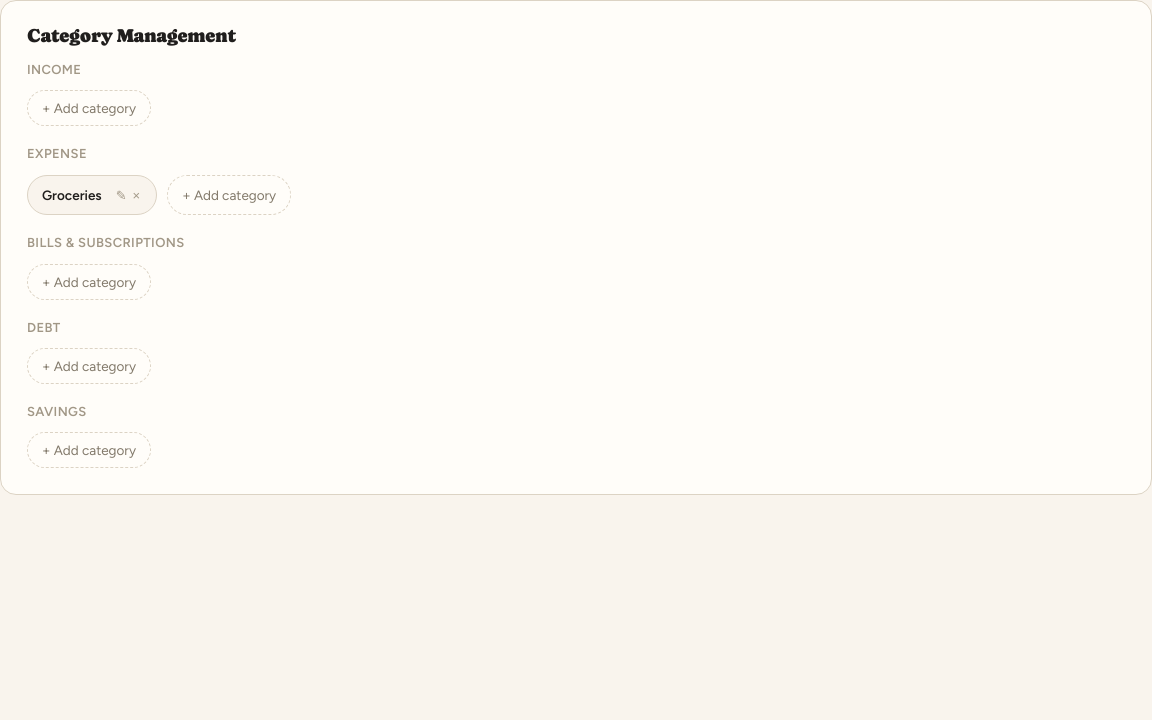
Test: CategoryManagement › only deletes a Category after the inline confirmation step
The image size is (1152, 720).
Click the button named "Delete Groceries" at (136, 195), box x1=131 y1=186 x2=142 y2=204
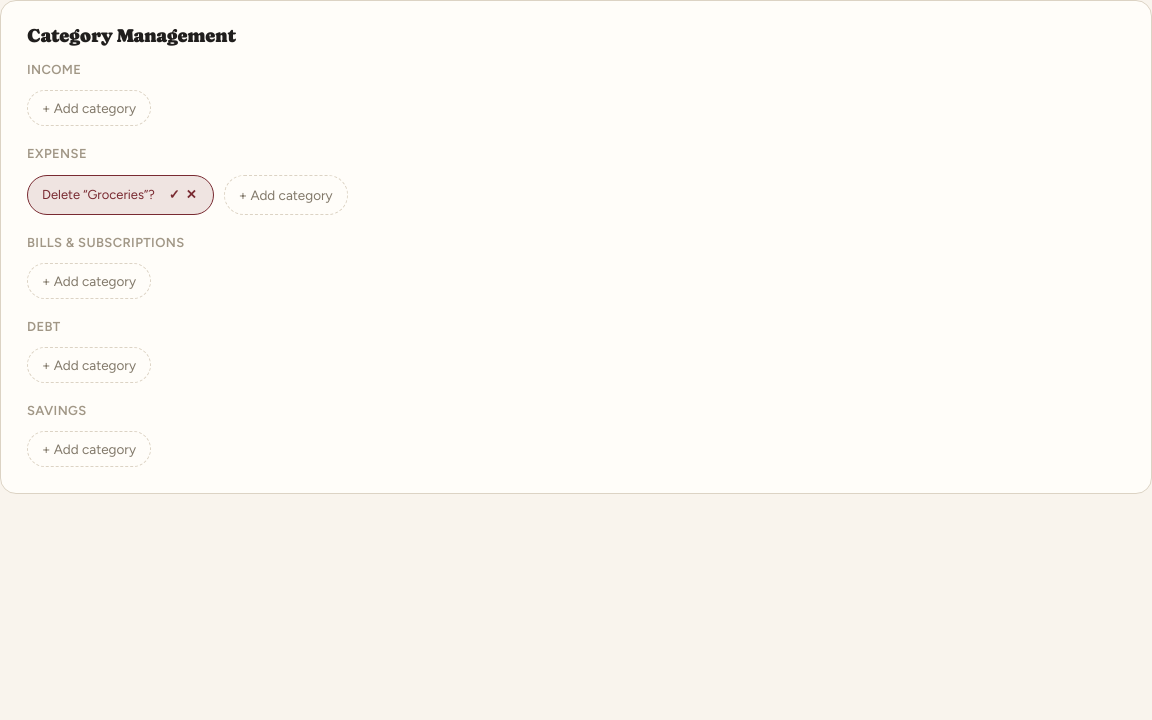
expect the text "Delete “Groceries”?" is shown: met, box x1=42 y1=184 x2=155 y2=205
Click the button named "Confirm delete Groceries" at (174, 195), box x1=167 y1=185 x2=182 y2=204
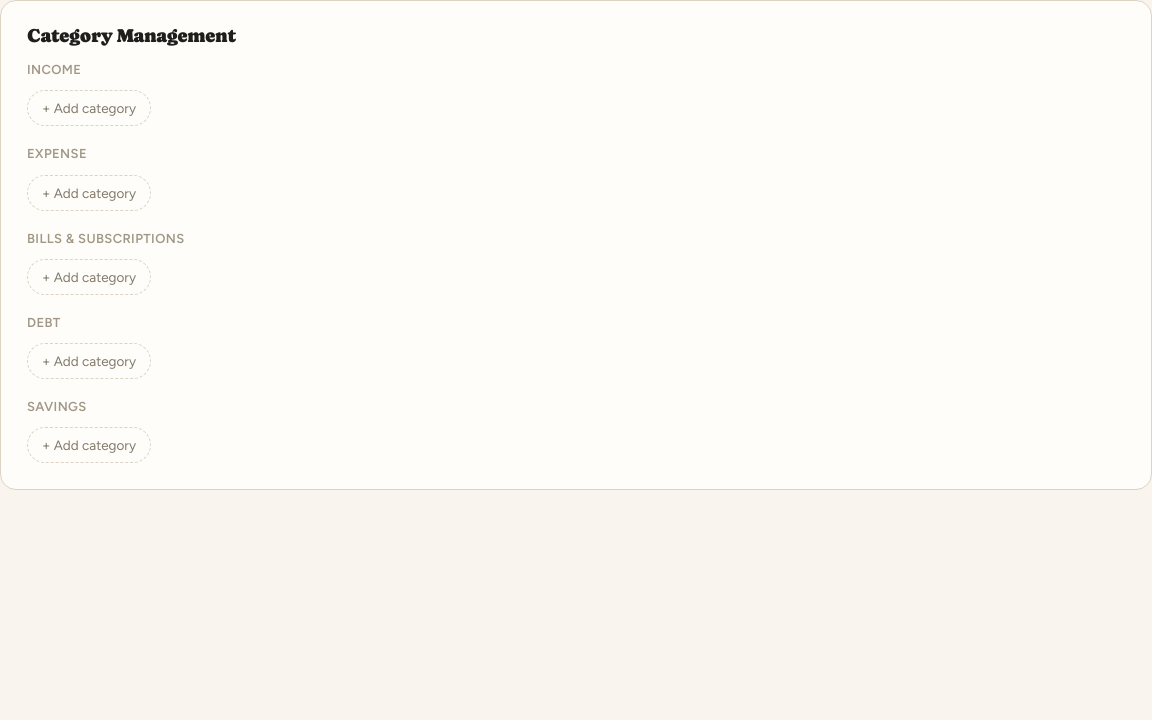
expect the text "Groceries" is gone: met
